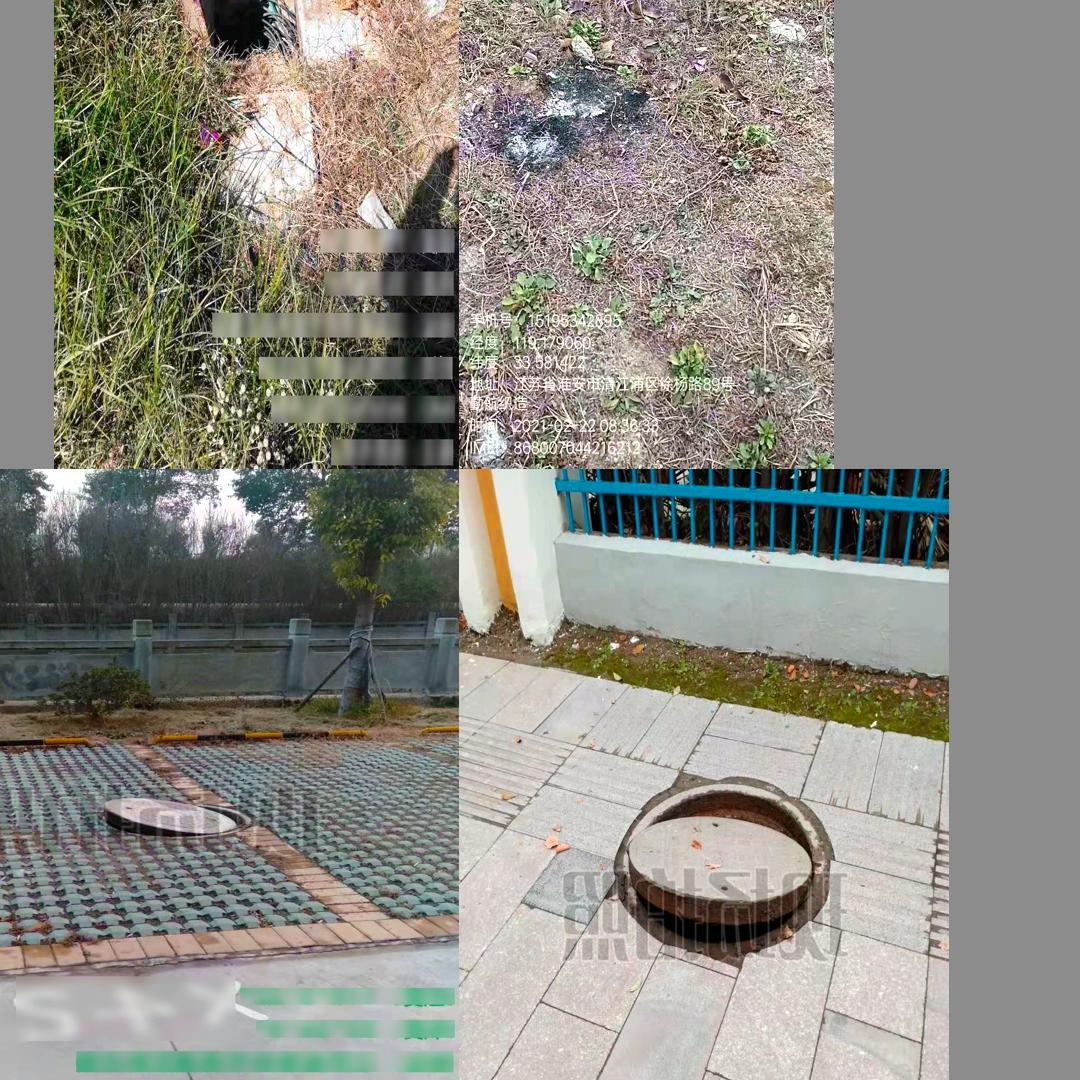uncovered: (615, 781, 828, 957), (158, 0, 393, 59), (93, 797, 253, 841), (539, 0, 790, 23)
